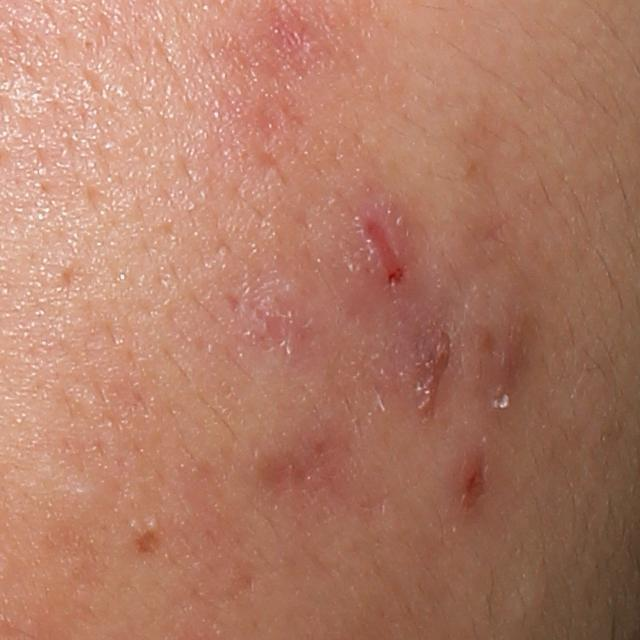comedo: (148, 517, 160, 531)
papule: (447, 455, 493, 506)
